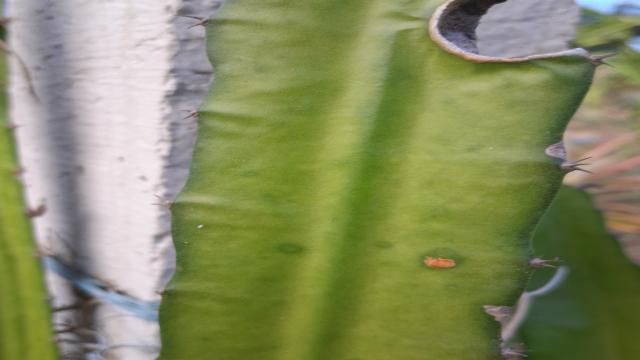stemcanker: (419, 251, 463, 274)
